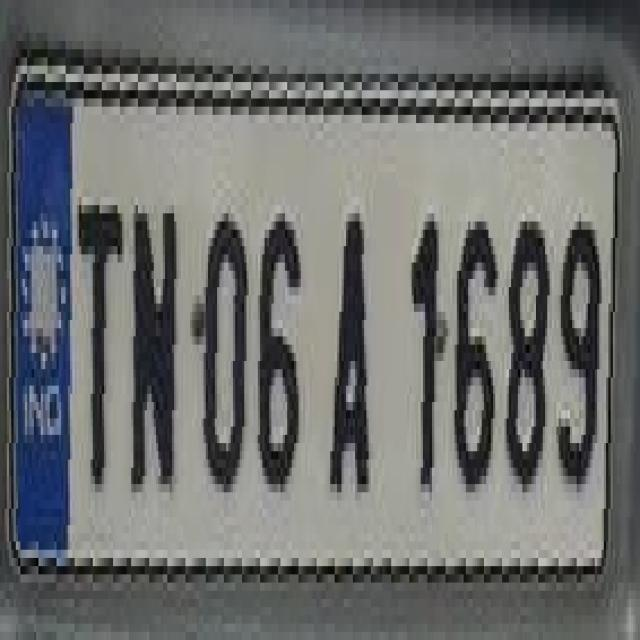plate: (4, 8, 602, 616)
